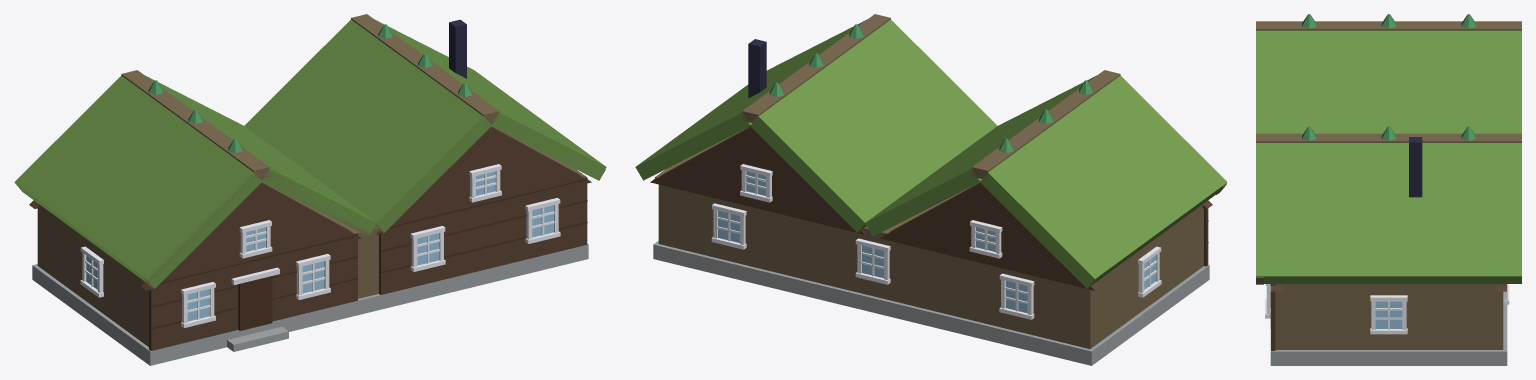
The model's file is house-2x1-1f-turf-a.glb.
3 views of the same model, side by side, from view 1: azimuth 30°, elevation 25°; view 2: azimuth 150°, elevation 25°; view 3: azimuth 270°, elevation 25° (orthographic).
Visible parts, largest first — view 1: house-2x1-1f-turf-a; view 2: house-2x1-1f-turf-a; view 3: house-2x1-1f-turf-a.
Part boxes in pixels (x1=…): house-2x1-1f-turf-a: x1=14, y1=14, x2=606, y2=365; house-2x1-1f-turf-a: x1=635, y1=14, x2=1227, y2=365; house-2x1-1f-turf-a: x1=1256, y1=14, x2=1521, y2=365.
Bounding box in the file's own units: 2 × 0.82 × 1.
1 material, 1 textured.
